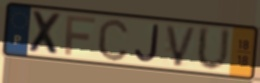C: (96, 17, 131, 63)
F: (63, 14, 97, 57)
J: (132, 23, 162, 64)
U: (195, 24, 233, 74)
V: (164, 23, 199, 69)
X: (27, 9, 65, 58)
